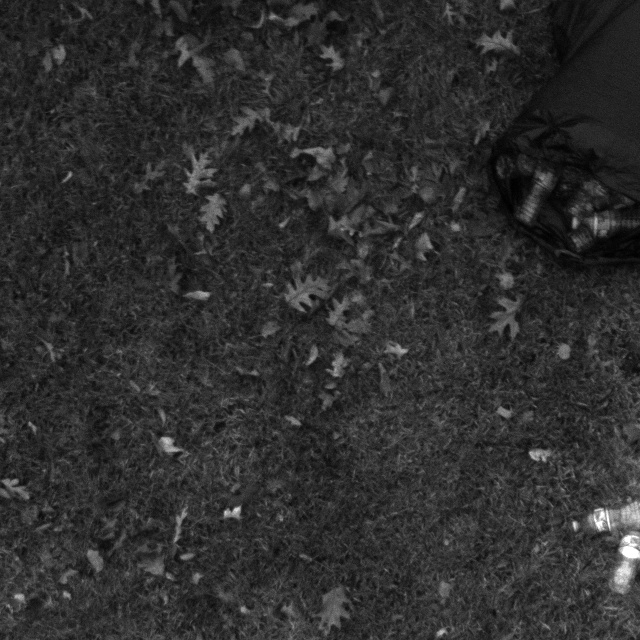bottle: (578, 494, 640, 537)
